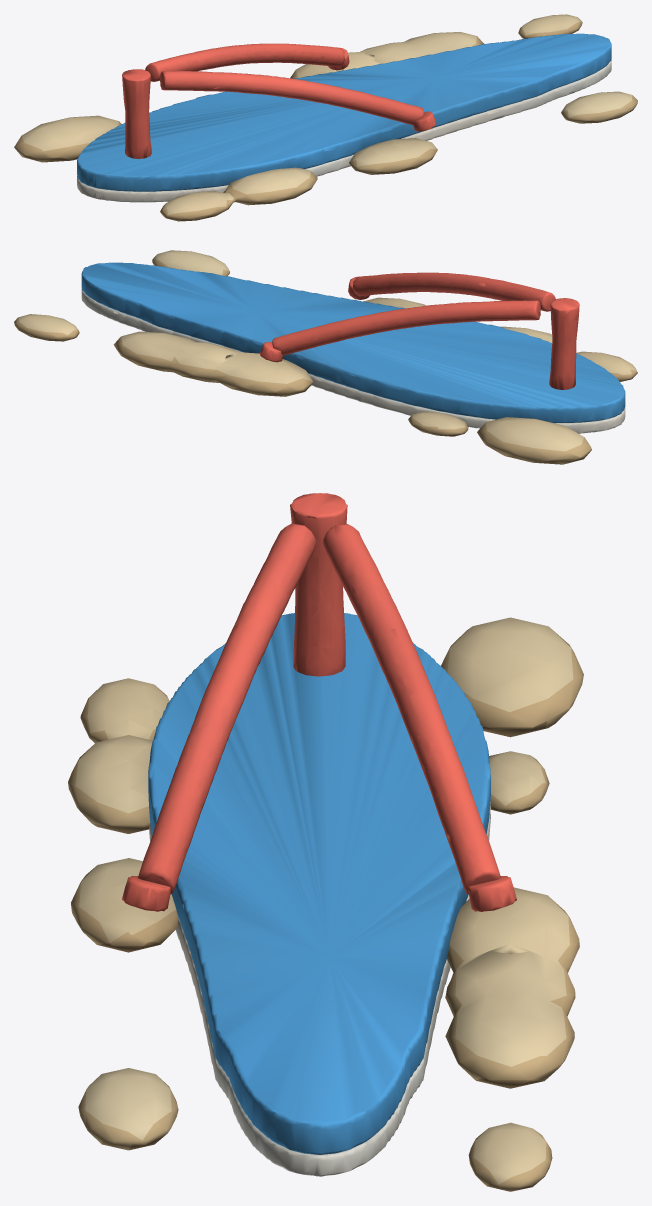
The model's file is shore_flipflop.glb.
3 views of the same model, one above another, from view 1: azimuth 30°, elevation 25°; view 2: azimuth 150°, elevation 25°; view 3: azimuth 270°, elevation 25° (orthographic). The views are drawn at different scales.
Visible parts, largest first — view 1: shore_flipflop; view 2: shore_flipflop; view 3: shore_flipflop.
Part boxes in pixels (left/top/right/bottom): shore_flipflop: left=14, top=14, right=637, bottom=221; shore_flipflop: left=14, top=250, right=637, bottom=464; shore_flipflop: left=68, top=493, right=583, bottom=1191.
Bounding box in the file's own units: 48.8 × 9.19 × 19.45.
